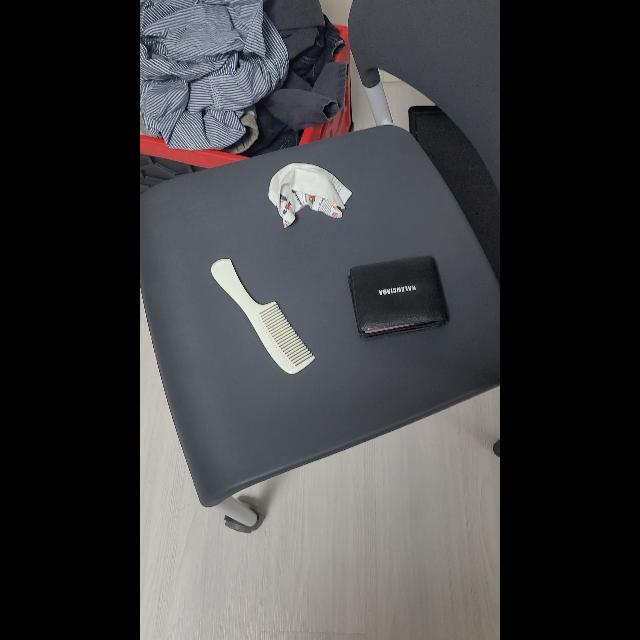COMB: (211, 258, 315, 374)
Glasses cleaning cloth: (268, 163, 352, 229)
WALLET: (348, 255, 450, 338)
